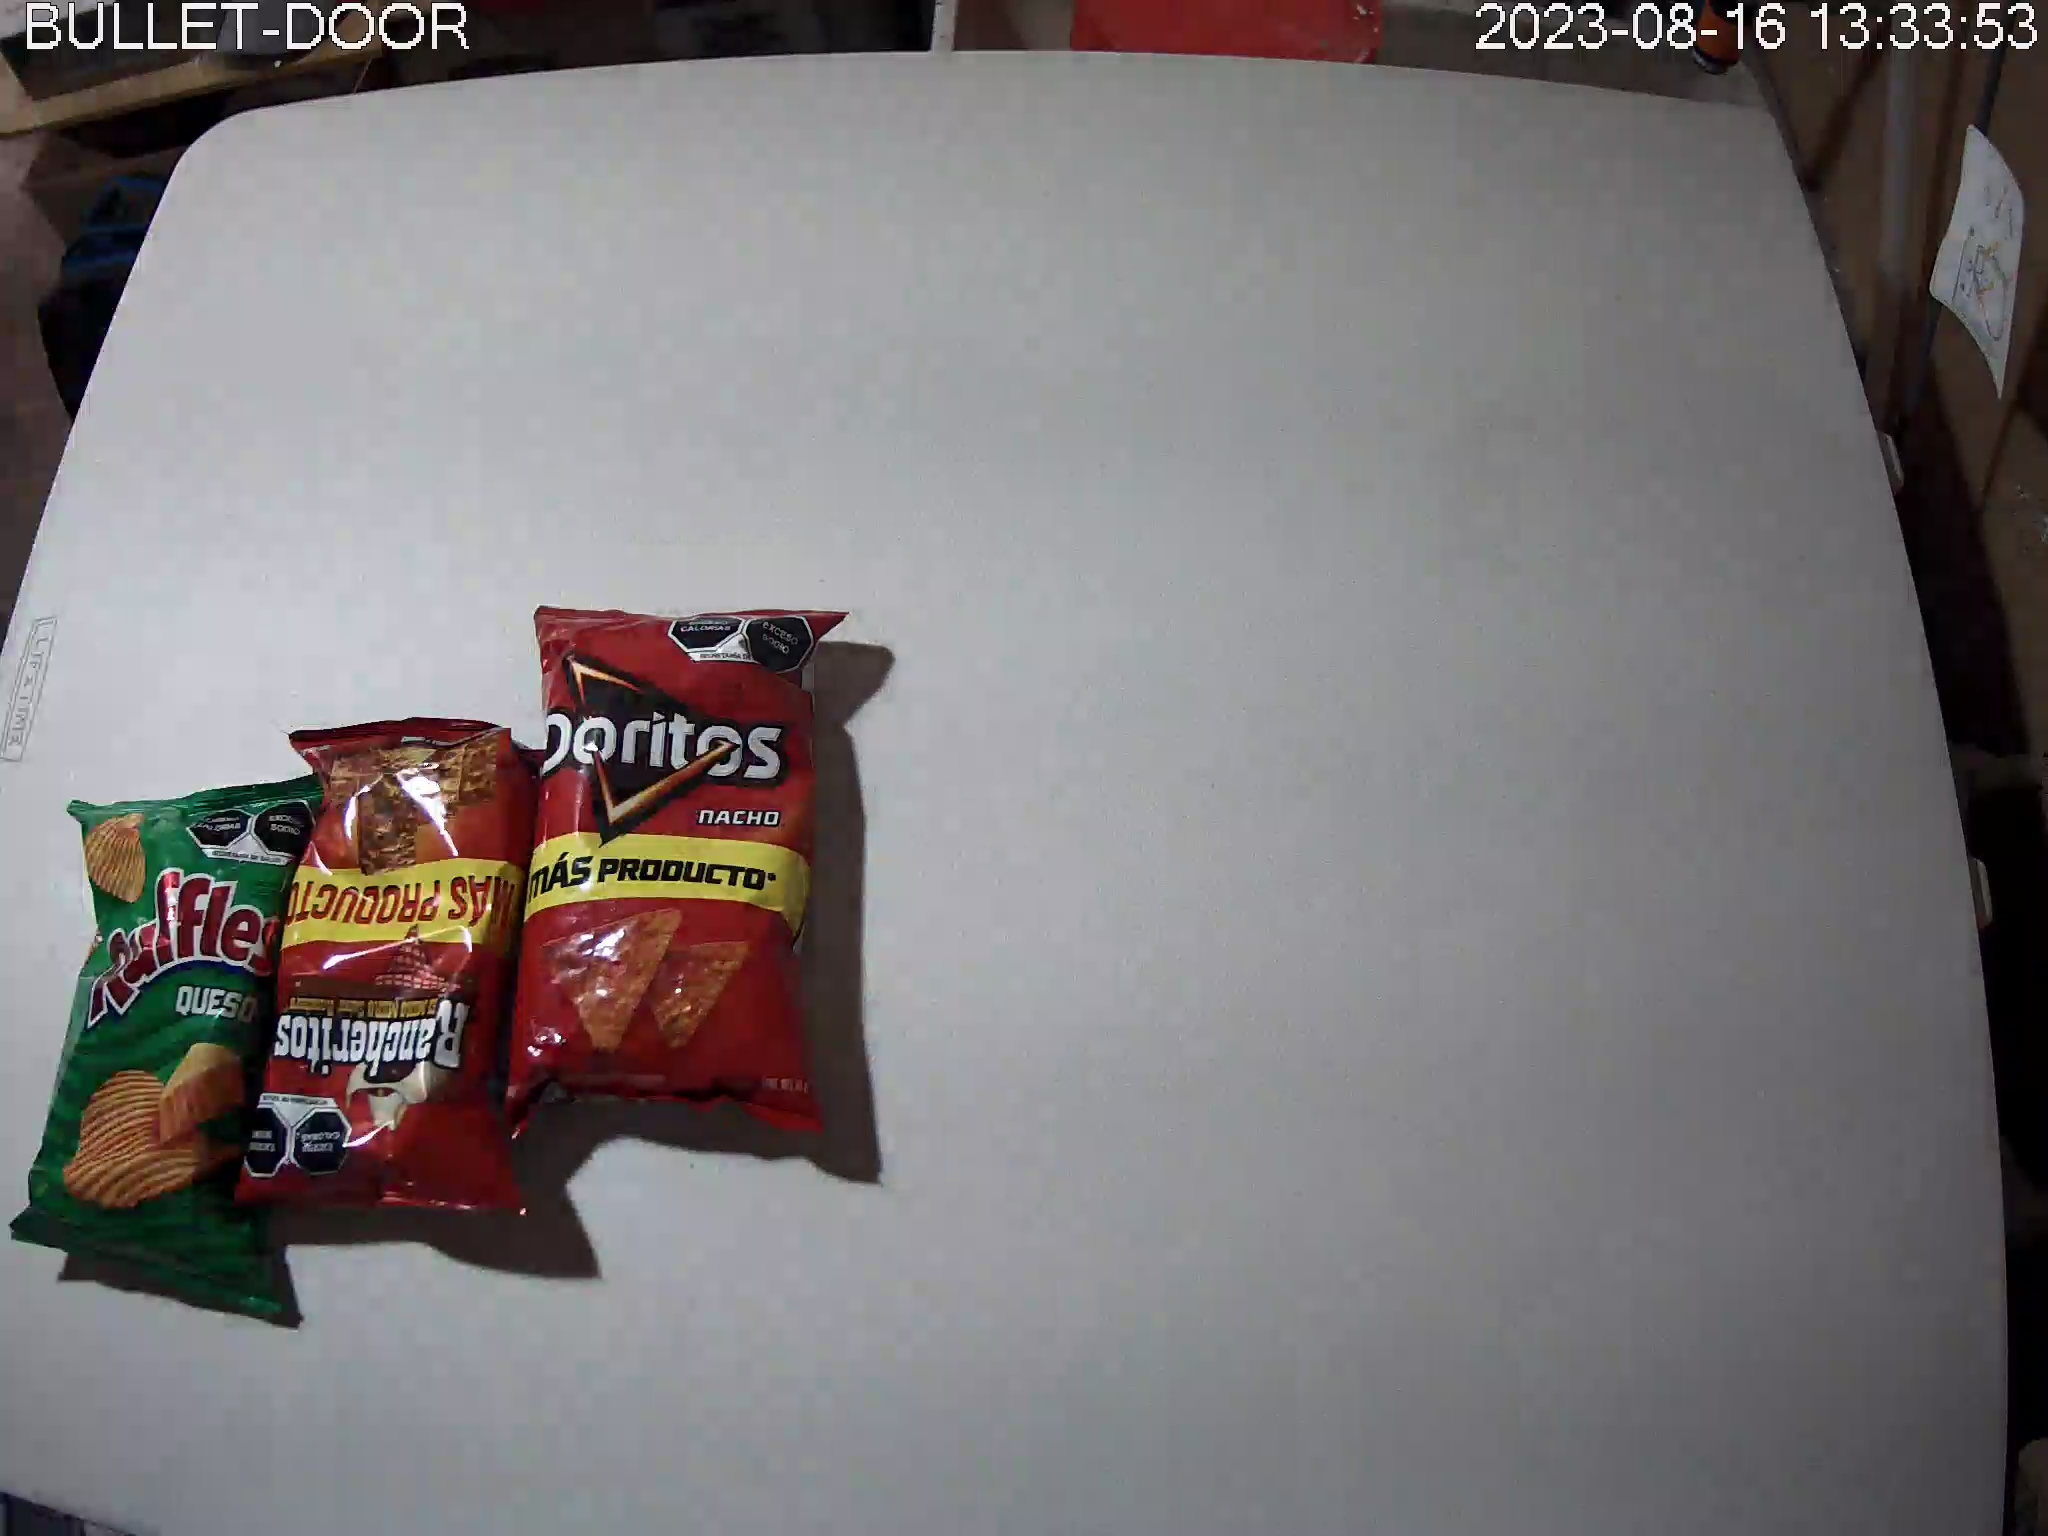DoritosN_61_F: (502, 607, 855, 1142)
Rancheritos_58_F: (232, 720, 534, 1221)
RufflesQ_48_F: (11, 778, 323, 1326)
